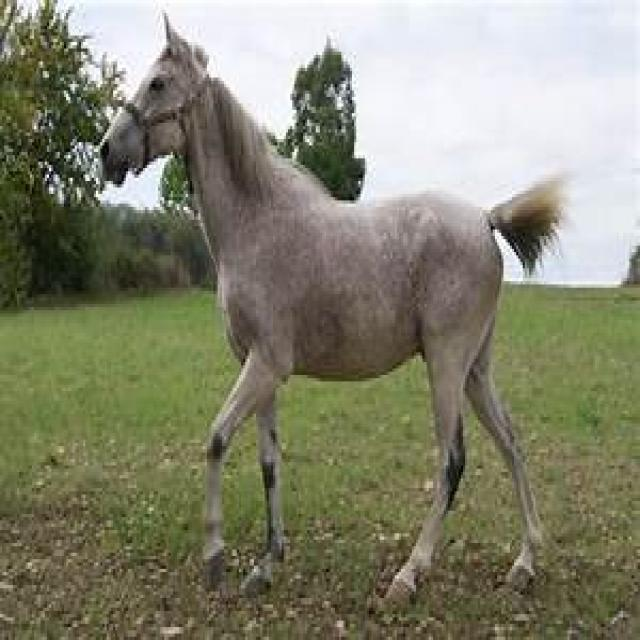horse: (98, 19, 567, 608)
